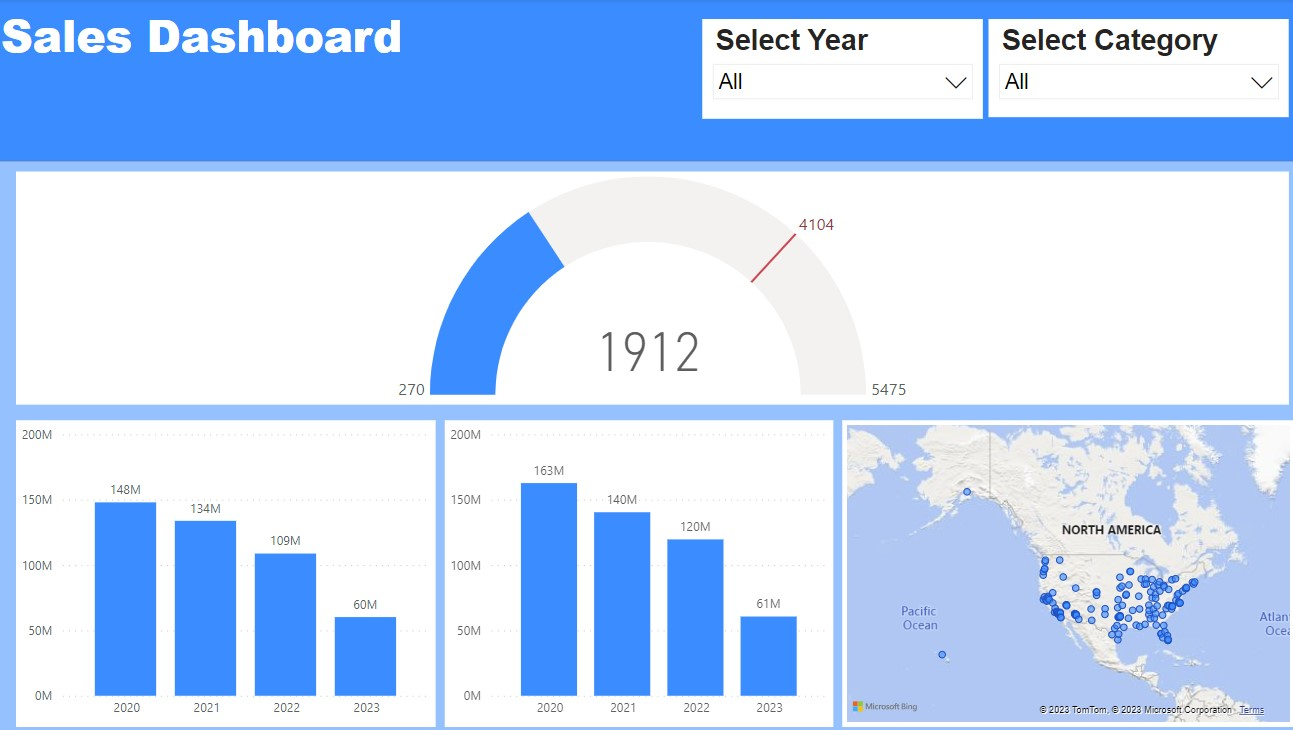

The dashboard page shown, as its layout file describes it:
{"tool":"powerbi","page":{"name":"Page 1","canvas":[1280,720],"ordinal":0},"visuals":[{"type":"shape","box":[9.6,157.8,1270.7,562.6],"z":0},{"type":"textbox","box":[9.6,0,1270.7,157.8],"z":1000},{"type":"textbox","box":[9.6,0,511.8,86.4],"z":2000},{"type":"slicer","fields":{"Values":["wkly_inv_data.yr_num"]},"box":[699.8,19.2,274.4,97.4],"z":3000},{"type":"slicer","fields":{"Values":["wkly_prod_data.category_name"]},"box":[980.7,19.7,293.6,96.2],"z":4000},{"type":"gauge","fields":{"Y":["Sum(Target.Value)"],"MinValue":["Sum(Target.Minimum Value)"],"TargetValue":["Sum(Target.Target Value)"],"MaxValue":["Sum(Target.Maximum Value)"]},"box":[29.6,169,1244.7,228.2],"z":5000},{"type":"columnChart","fields":{"Y":["Sum(wkly_inv_data.wkly_sales_amt)"],"Category":["wkly_inv_data.yr_num"]},"box":[29.6,412,410.8,299.8],"z":6000},{"type":"map","fields":{"X":["wkly_store_data.longitude"],"Y":["wkly_store_data.latitude"]},"box":[837.6,412,442.9,299.8],"z":7000},{"type":"columnChart","fields":{"Y":["Sum(wkly_inv_data.wkly_sales_cost)"],"Category":["wkly_inv_data.yr_num"]},"box":[449,412,380,299.8],"z":8000}]}

Visuals, with their boxes in screenshot pixels (x1, y1, x2, y2), scaled from the page's 1280x720 canvas onto the 1293x730 screenshot:
shape: region(10, 160, 1292, 729)
textbox: region(10, 0, 1292, 160)
textbox: region(10, 0, 527, 88)
slicer - wkly_inv_data.yr_num: region(707, 19, 984, 118)
slicer - wkly_prod_data.category_name: region(991, 20, 1287, 118)
gauge - Sum(Target.Value) x Sum(Target.Minimum Value): region(30, 171, 1287, 403)
columnChart - Sum(wkly_inv_data.wkly_sales_amt) x wkly_inv_data.yr_num: region(30, 418, 445, 722)
map - wkly_store_data.longitude x wkly_store_data.latitude: region(846, 418, 1292, 722)
columnChart - Sum(wkly_inv_data.wkly_sales_cost) x wkly_inv_data.yr_num: region(454, 418, 837, 722)
